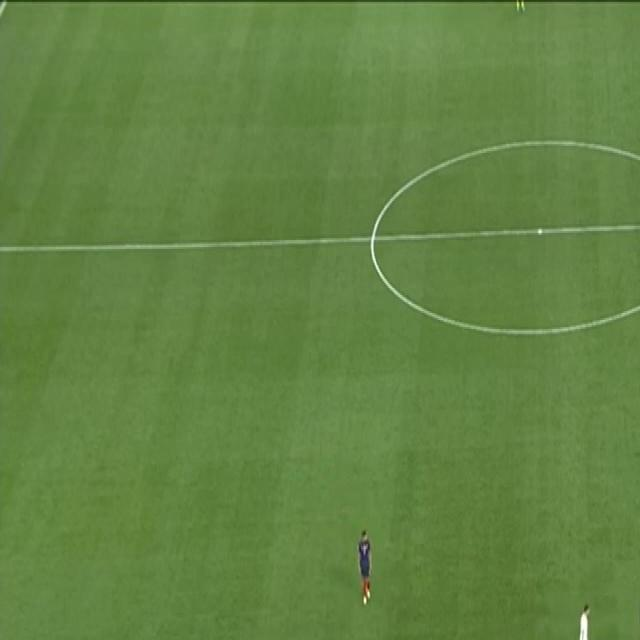player-white: (354, 525, 374, 610), (573, 599, 593, 640), (633, 586, 640, 640), (637, 622, 640, 640)
